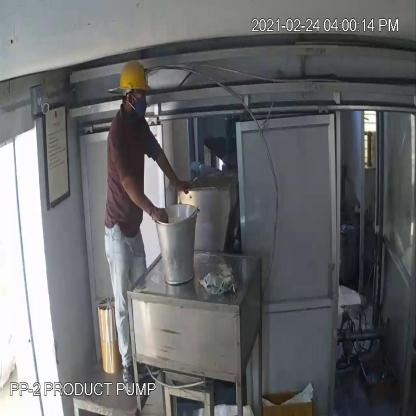helmet: (118, 56, 154, 102)
